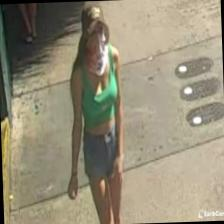person: (60, 2, 127, 224)
